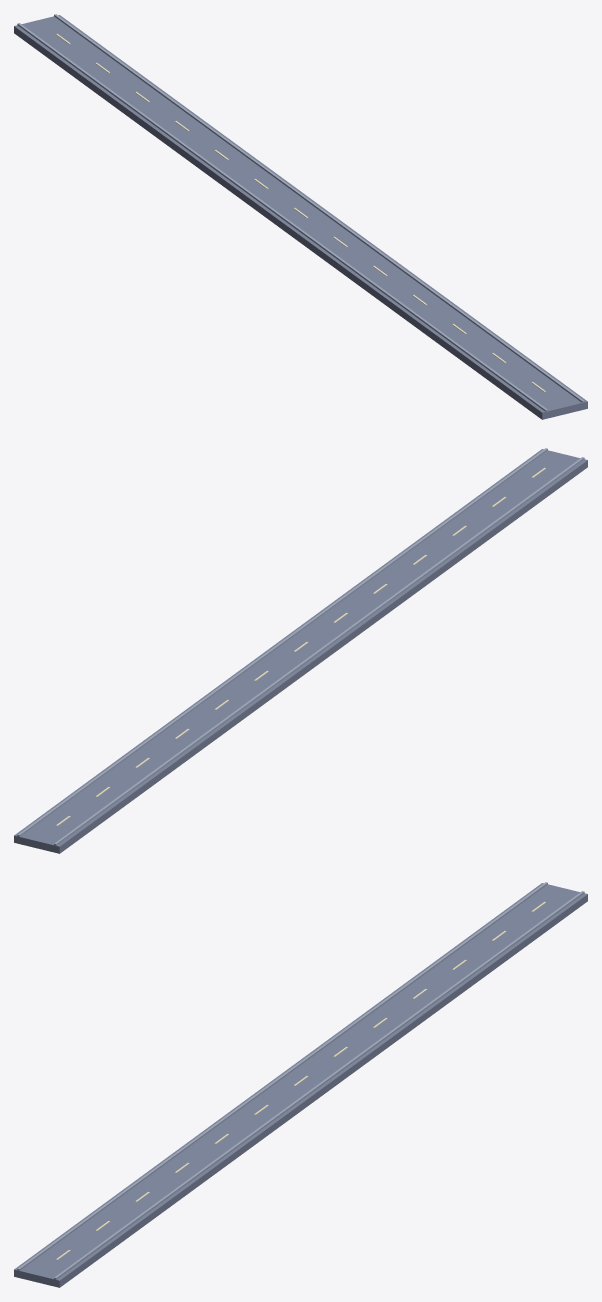
File: autopista_lateral.glb
The picture shows the model from 3 angles, top to bottom: view 1: azimuth 30°, elevation 25°; view 2: azimuth 150°, elevation 25°; view 3: azimuth 330°, elevation 25°; orthographic projection.
Parts seen in each view (by area): view 1: autopista_lateral; view 2: autopista_lateral; view 3: autopista_lateral.
Part boxes in pixels (bbox=[...]): autopista_lateral: bbox=[14, 14, 587, 419]; autopista_lateral: bbox=[14, 448, 587, 853]; autopista_lateral: bbox=[14, 882, 587, 1287].
Bounding box in the file's own units: 2 × 0.37 × 40.
